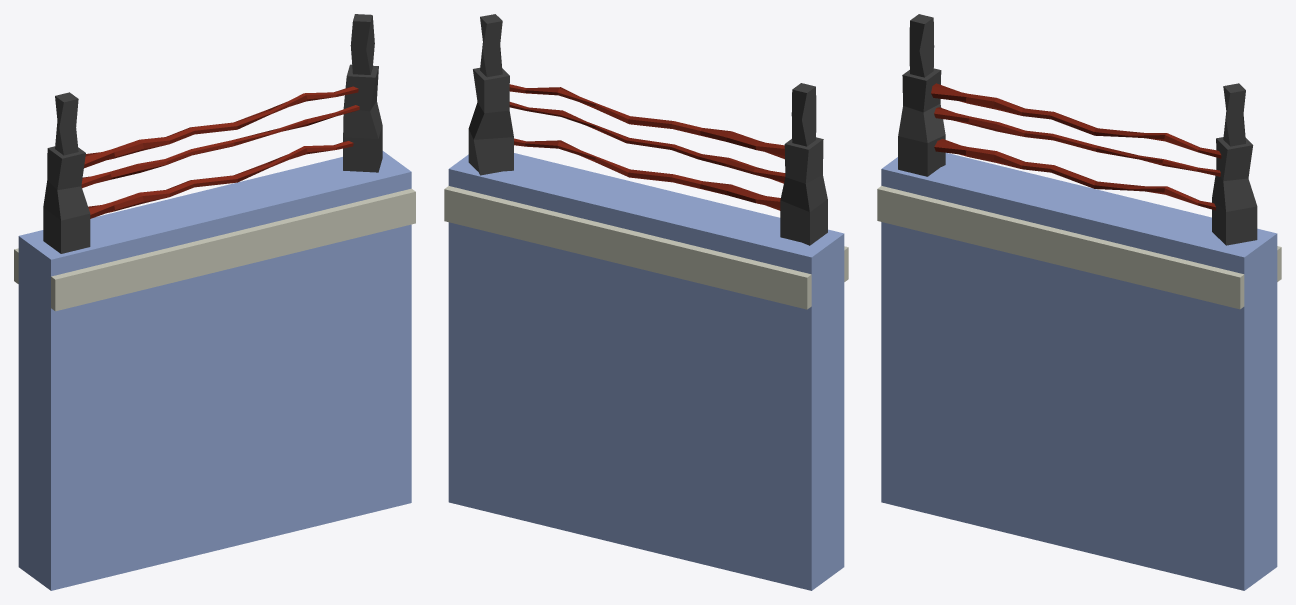
Rendered from wall1.fbx.
3 renders of one model, left to right at view 1: azimuth 30°, elevation 25°; view 2: azimuth 150°, elevation 25°; view 3: azimuth 330°, elevation 25°, orthographic.
Parts seen in each view (by area): view 1: Cube, Cube.001, Cube.002, Circle.002, Circle, Circle.001; view 2: Cube, Cube.001, Cube.002, Circle.002, Circle, Circle.001; view 3: Cube, Cube.001, Cube.002, Circle.002, Circle, Circle.001.
Boxes of the visible parts, left/top/right/bottom form: Cube: left=14, top=151, right=415, bottom=590; Cube.001: left=43, top=92, right=90, bottom=253; Cube.002: left=343, top=14, right=382, bottom=172; Circle.002: left=84, top=86, right=358, bottom=168; Circle: left=88, top=141, right=353, bottom=218; Circle.001: left=81, top=105, right=359, bottom=188; Cube: left=444, top=153, right=848, bottom=590; Cube.001: left=780, top=83, right=827, bottom=245; Cube.002: left=468, top=14, right=513, bottom=175; Circle.002: left=509, top=84, right=784, bottom=159; Circle: left=514, top=138, right=780, bottom=210; Circle.001: left=509, top=102, right=785, bottom=183; Cube: left=877, top=152, right=1281, bottom=590; Cube.001: left=898, top=14, right=945, bottom=176; Cube.002: left=1212, top=83, right=1257, bottom=245; Circle.002: left=931, top=83, right=1221, bottom=158; Circle: left=934, top=139, right=1216, bottom=210; Circle.001: left=934, top=107, right=1220, bottom=176.
Size of the model in its own units: 250 by 316 by 49.53.
